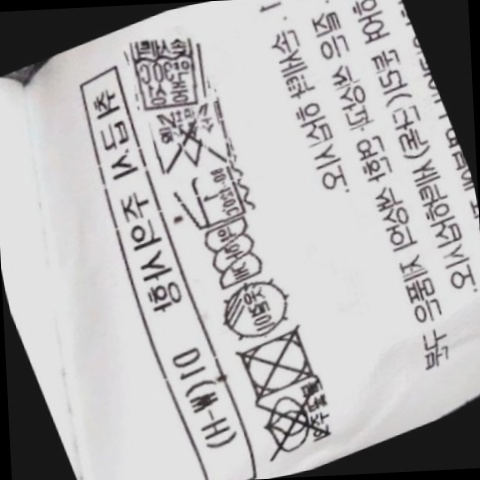DN_tumble_dry: (228, 320, 328, 405)
hand_wash: (120, 28, 215, 117)
iron_low: (172, 160, 253, 235)
line_dry_in_shade: (209, 272, 302, 347)
wring: (199, 214, 270, 293)
